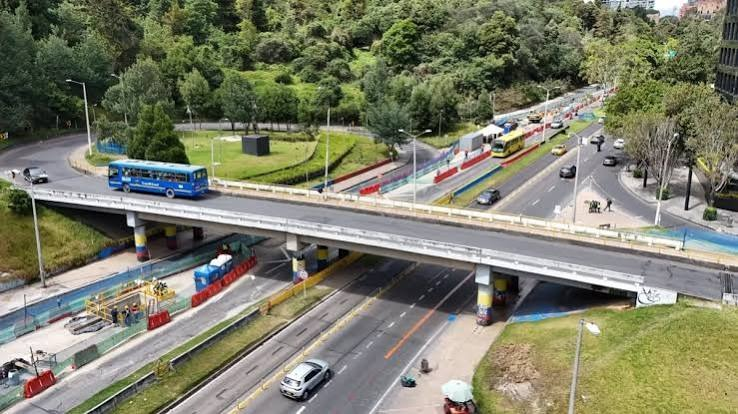car: (45, 65, 672, 391), (355, 77, 615, 206), (361, 79, 602, 212), (110, 159, 211, 199), (271, 361, 333, 404), (272, 360, 334, 402)
